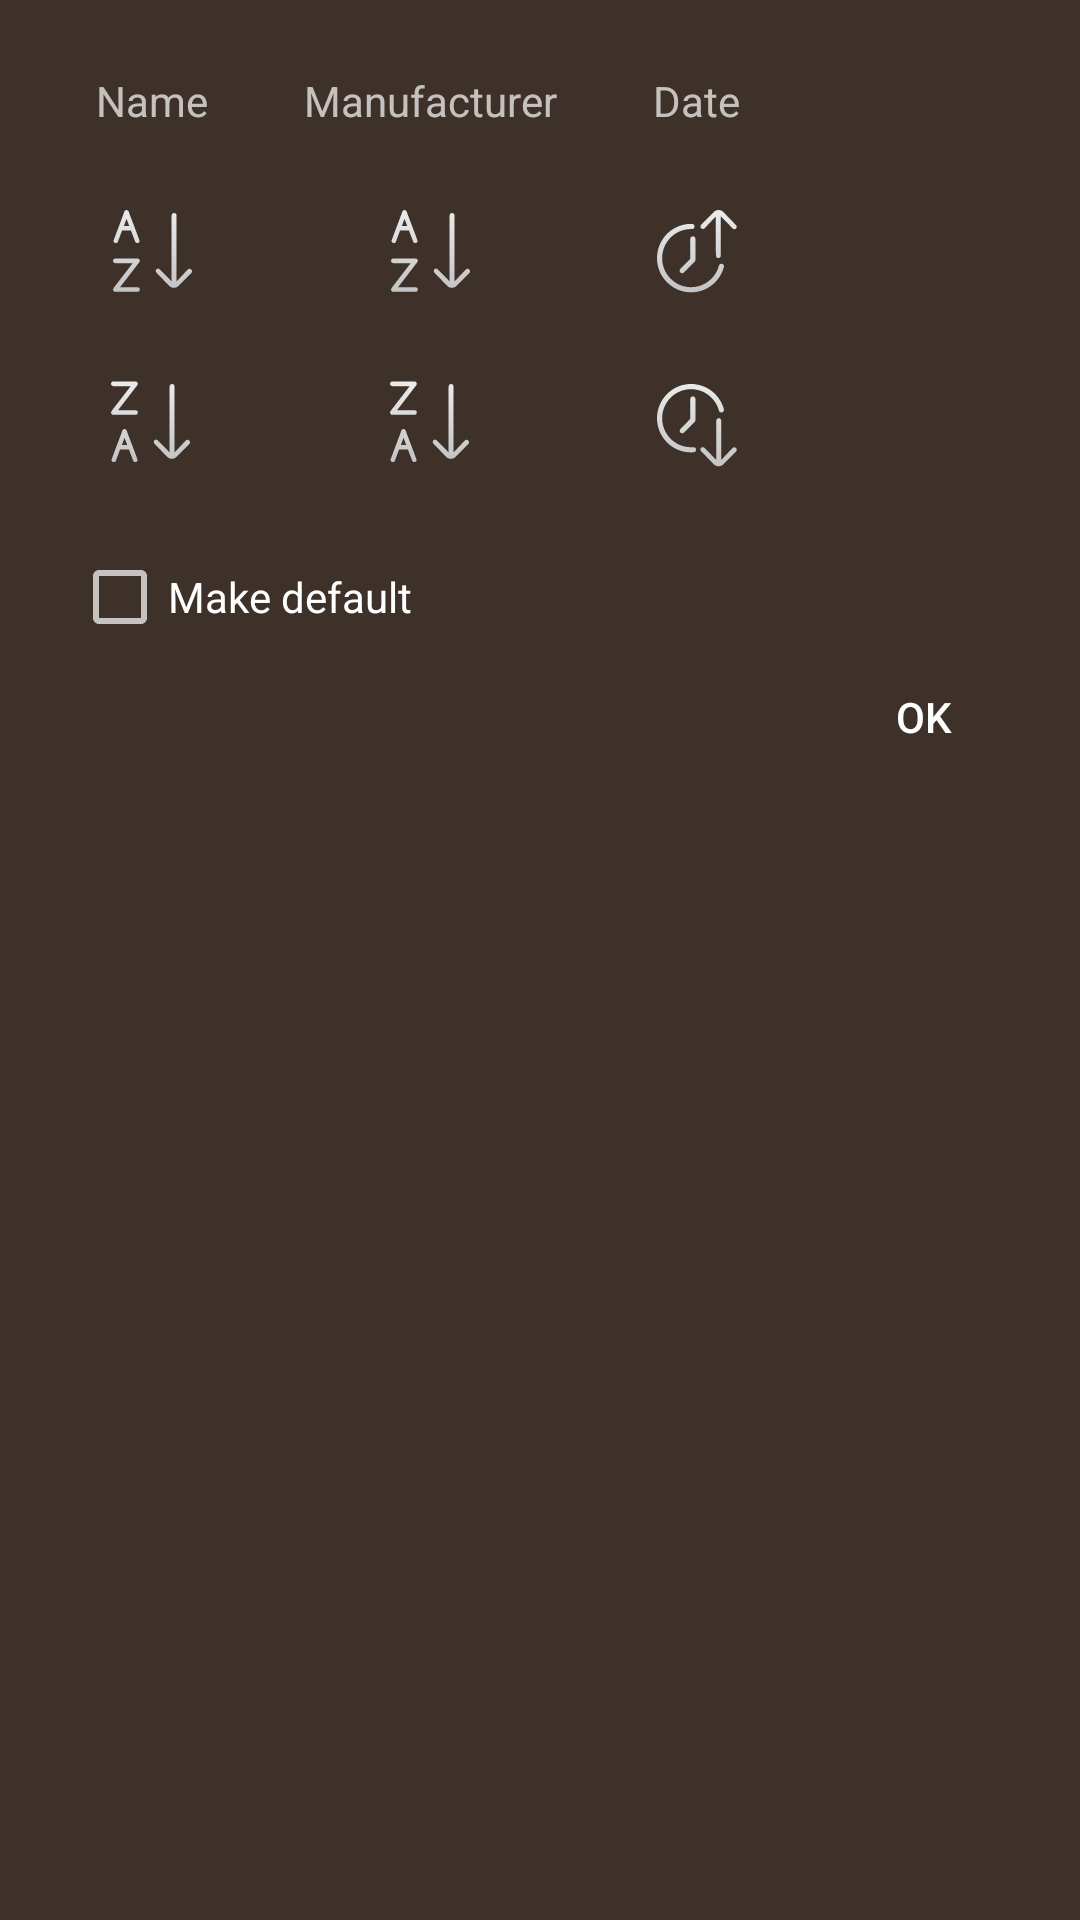

Icons on this 1080×1920 Android screen, each with the point to tap as (x=x, y=y):
sort az down: (x=152, y=251), (x=430, y=251)
sort date down: (x=697, y=425)
sort za down: (x=150, y=421), (x=429, y=421)
